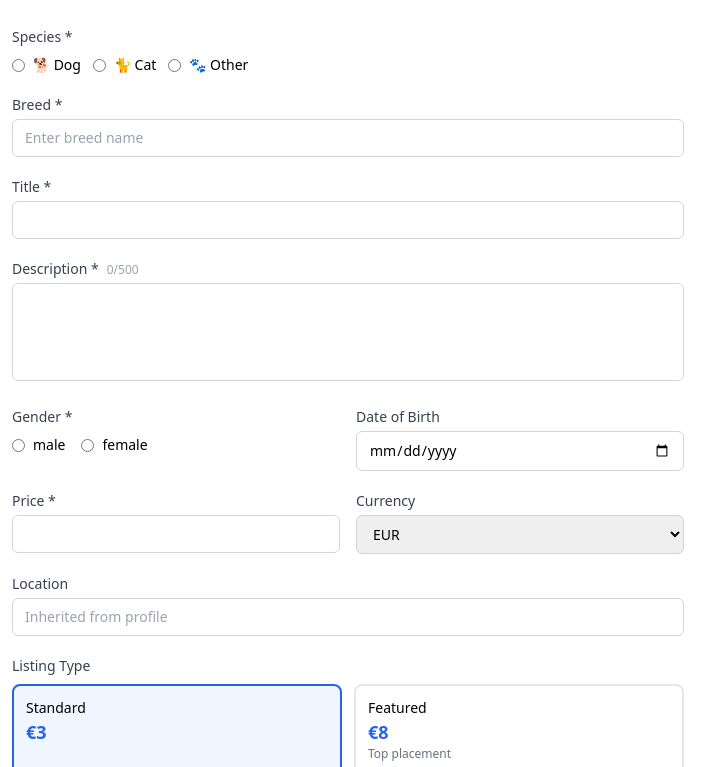
Test case: CreateListingForm › shows validation error on empty title submit
Click the radio button labelled "🐕 dog".
click(18, 65)  # box x1=12 y1=58 x2=25 y2=72
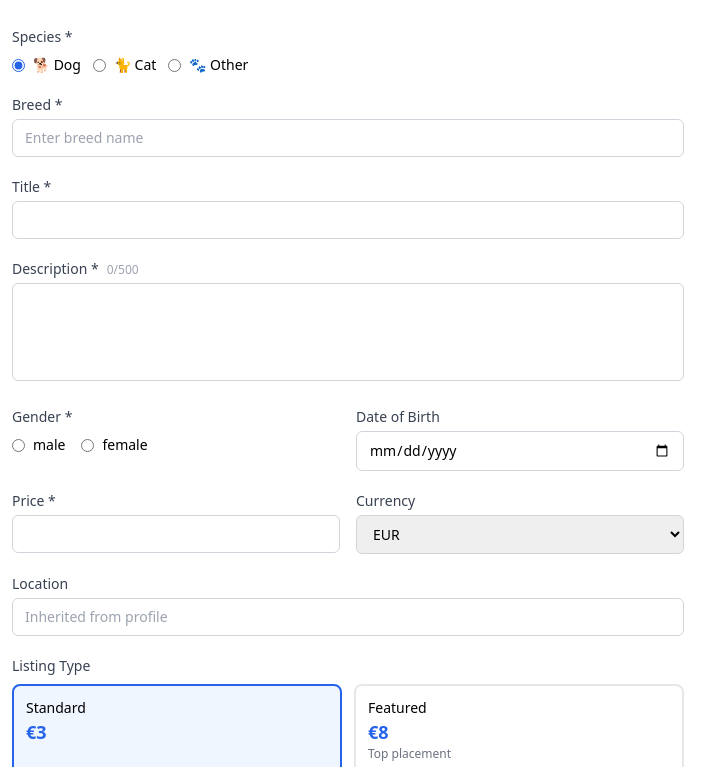
Click the radio button labelled "male".
click(18, 445)  # box x1=12 y1=438 x2=25 y2=452
(page scrolled)
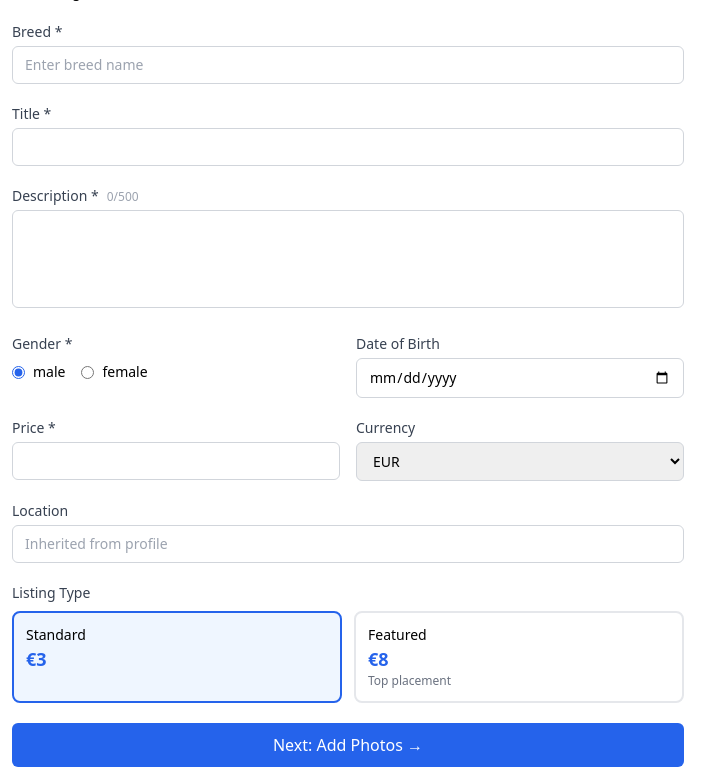
Click the button "Next: Add Photos →".
click(348, 745)  # box x1=12 y1=723 x2=684 y2=766
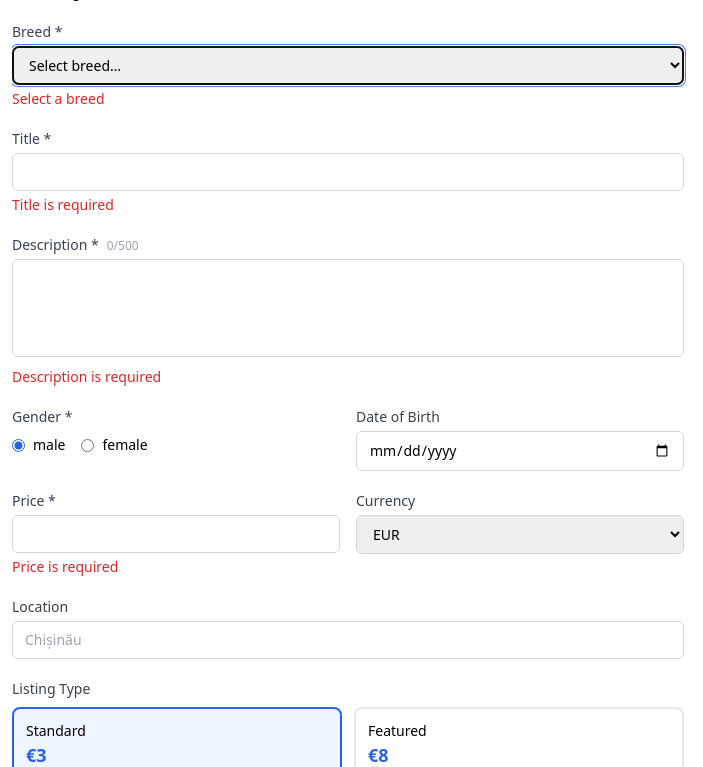
Expected: the text "Title is required" is shown, x1=12 y1=195 x2=114 y2=214
